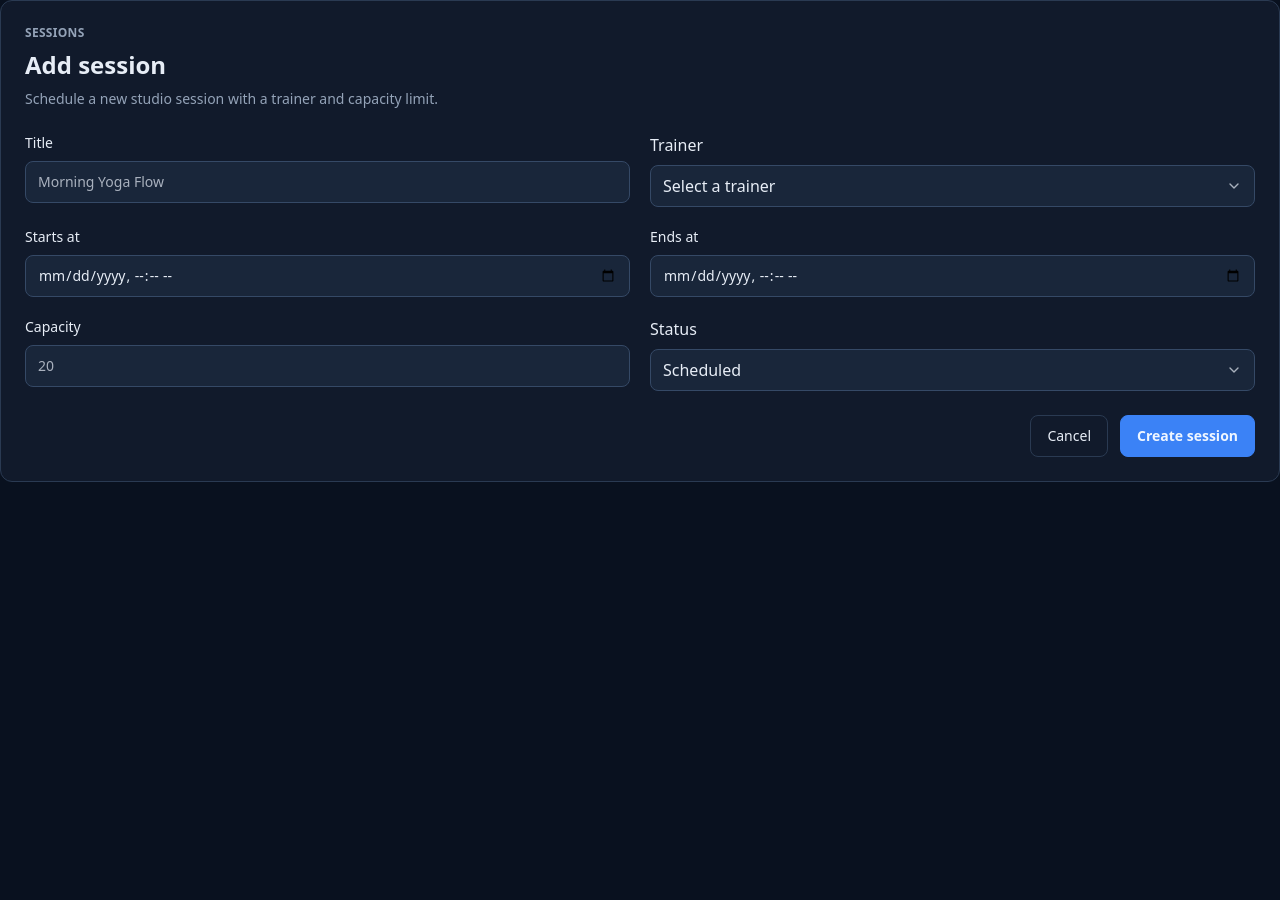
CreateSessionForm › renders validation errors returned by the action
Click the button "Create session" at (1188, 436), box left=1120, top=415, right=1255, bottom=457
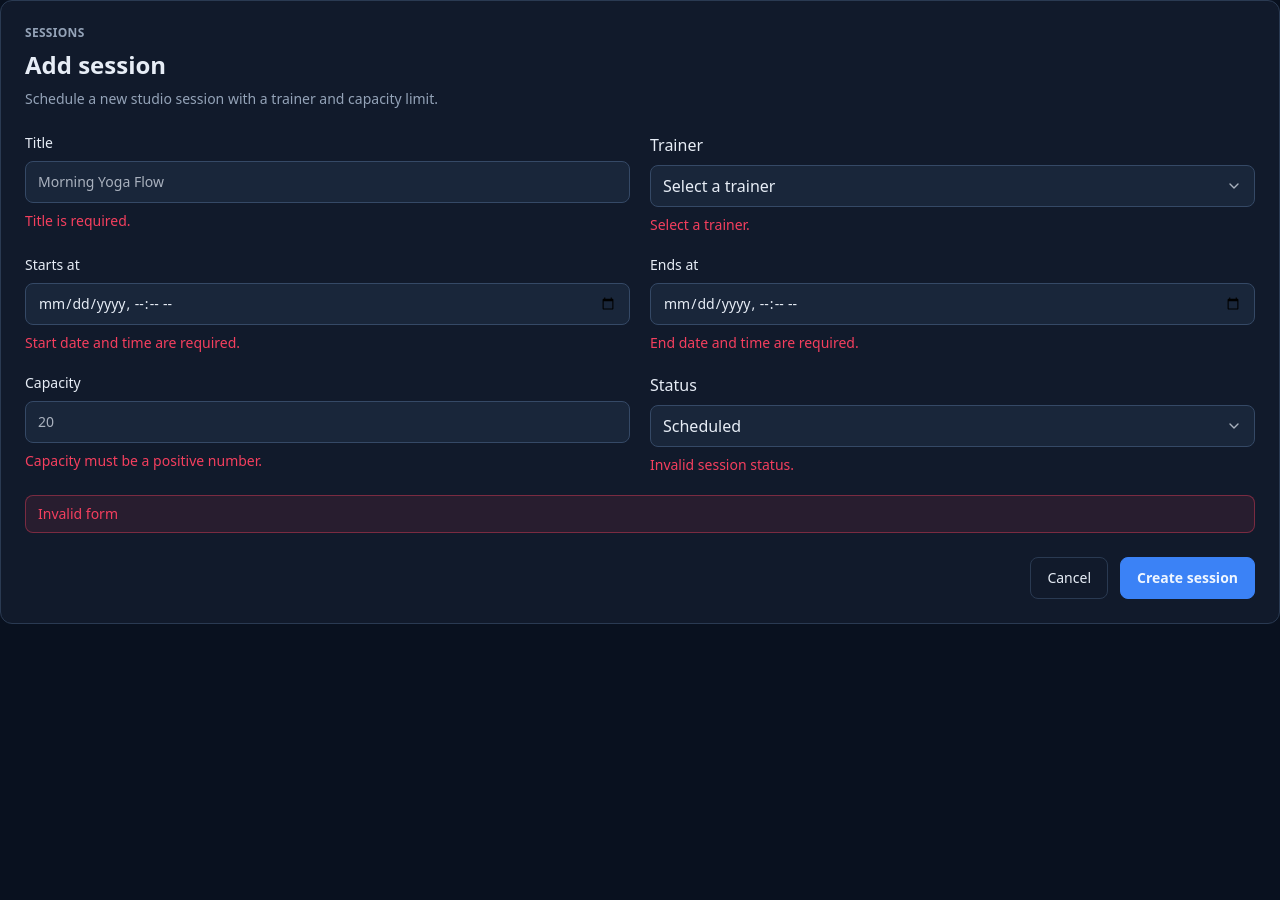
Expected: the text "Title is required." is shown, left=25, top=211, right=131, bottom=230
Expected: the text "Select a trainer." is shown, left=650, top=215, right=750, bottom=234
Expected: the text "Start date and time are required." is shown, left=25, top=333, right=240, bottom=352
